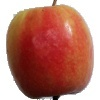apple: (6, 5, 95, 98)
